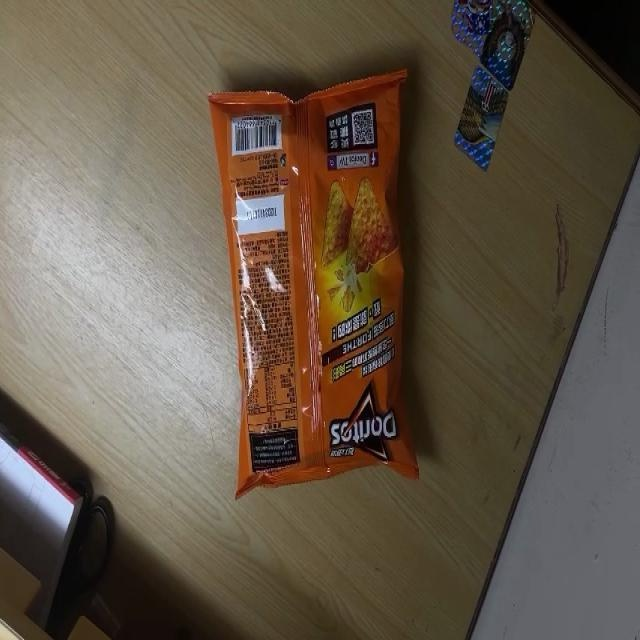Doritos: (206, 68, 417, 499)
